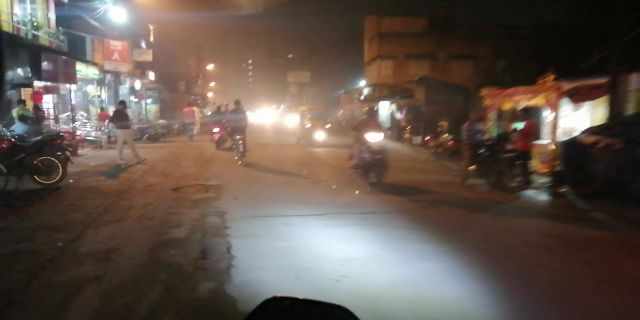Cycle: (224, 98, 252, 165)
Motorbike: (350, 106, 398, 192), (209, 102, 227, 154)
